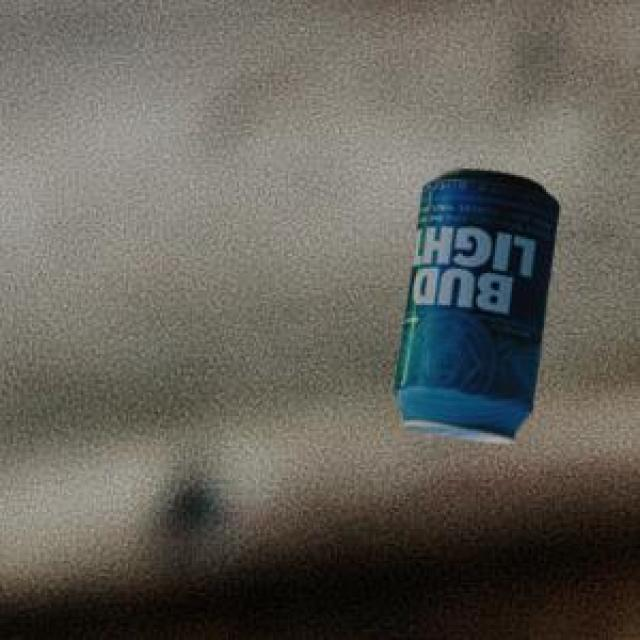logam: (391, 167, 556, 441)
